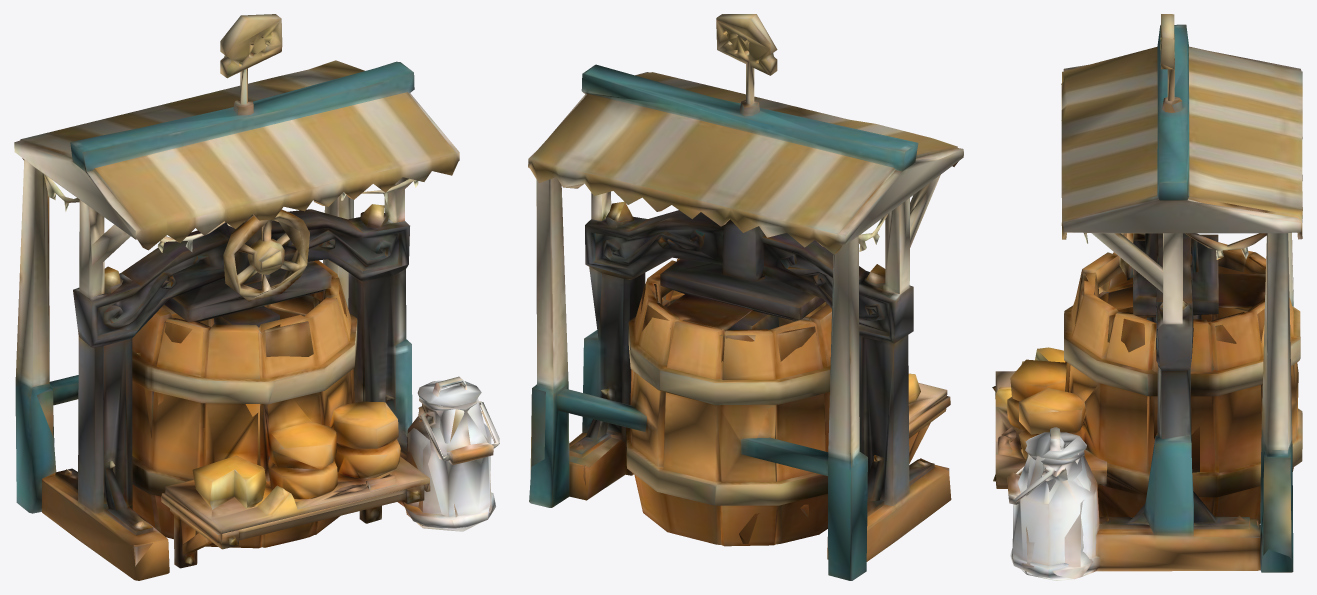
File: nainao-3.glb
3 renders of one model, left to right at view 1: azimuth 30°, elevation 25°; view 2: azimuth 150°, elevation 25°; view 3: azimuth 270°, elevation 25°, orthographic. The views are drawn at different scales.
Visible parts, largest first — view 1: node_0; view 2: node_0; view 3: node_0.
Part boxes in pixels (x1,y1,x2,y2): node_0: (14, 14, 499, 580); node_0: (528, 14, 963, 580); node_0: (992, 14, 1302, 580).
Size of the model in its own units: 0.6633 by 0.8818 by 0.5167.
Materials: 1 (1 with a texture image).
